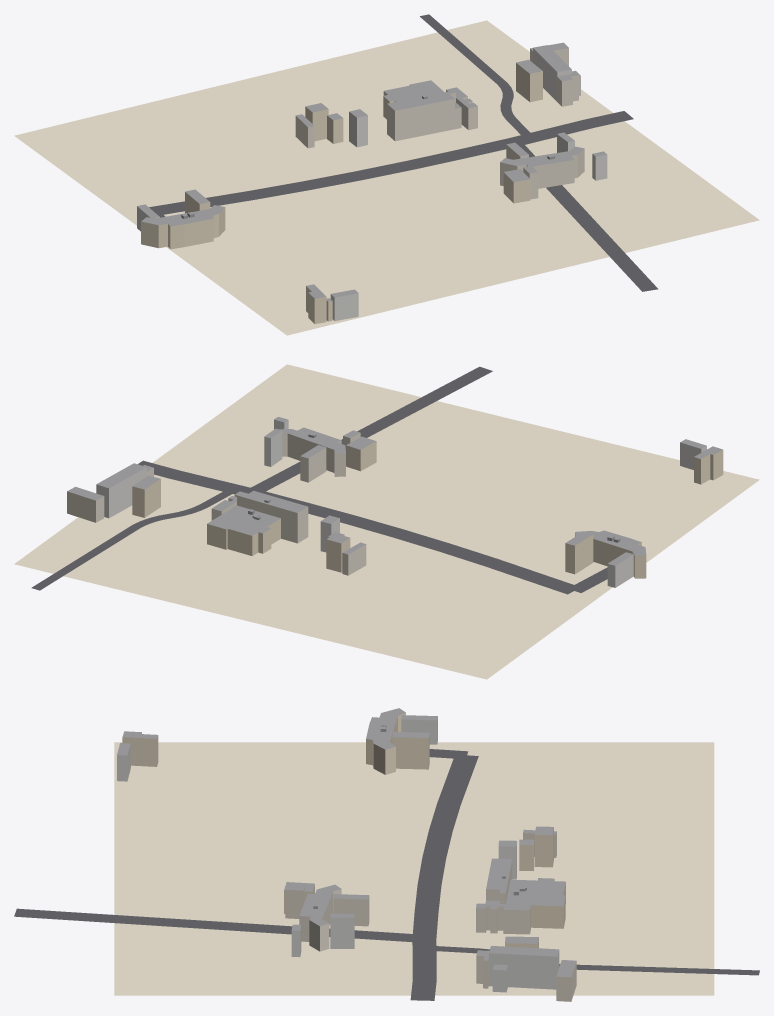
Rendered from tile_3_-4_far.glb.
The picture shows the model from 3 angles, top to bottom: view 1: azimuth 30°, elevation 25°; view 2: azimuth 150°, elevation 25°; view 3: azimuth 270°, elevation 25°; orthographic projection. The views are drawn at different scales.
Visible parts, largest first — view 1: nature_ground, roads_asphalt, buildings_concrete_warm, buildings_roof, buildings_sandstone, buildings_concrete_light; view 2: nature_ground, roads_asphalt, buildings_sandstone, buildings_roof, buildings_concrete_warm, buildings_concrete_light; view 3: nature_ground, roads_asphalt, buildings_roof, buildings_concrete_warm, buildings_sandstone, buildings_concrete_light.
Part boxes in pixels (x1,y1,x2,y2): nature_ground: [14, 20, 759, 335]; roads_asphalt: [149, 14, 658, 291]; buildings_concrete_warm: [295, 48, 584, 199]; buildings_roof: [137, 42, 606, 301]; buildings_sandstone: [141, 63, 542, 323]; buildings_concrete_light: [137, 48, 607, 320]; nature_ground: [14, 364, 759, 679]; roads_asphalt: [31, 366, 607, 594]; buildings_sandstone: [132, 441, 723, 578]; buildings_roof: [67, 417, 722, 565]; buildings_concrete_warm: [67, 433, 366, 575]; buildings_concrete_light: [96, 419, 706, 587]; nature_ground: [114, 742, 714, 995]; roads_asphalt: [14, 749, 759, 1000]; buildings_roof: [117, 708, 576, 977]; buildings_concrete_warm: [285, 832, 576, 1001]; buildings_sandstone: [122, 712, 565, 948]; buildings_concrete_light: [117, 717, 559, 992].
Bounding box in the file's own units: 265 × 16.46 × 311.
